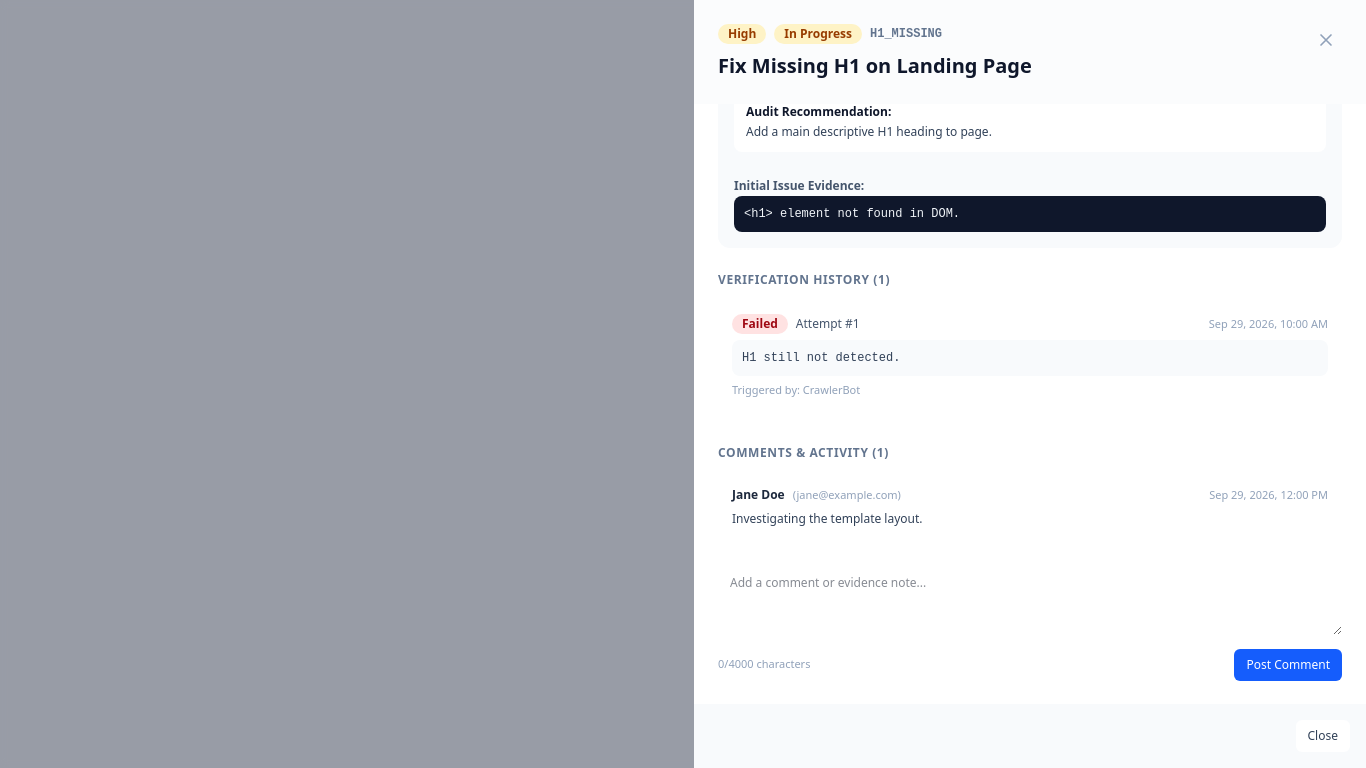
Scenario: TaskDetailDrawer Component › handles comment API error gracefully
The image size is (1366, 768).
(page scrolled)
Type "Should fail" into the text box with placeholder "Add a comment or evidence note..." at (1030, 598), box 718,562 -> 1342,634
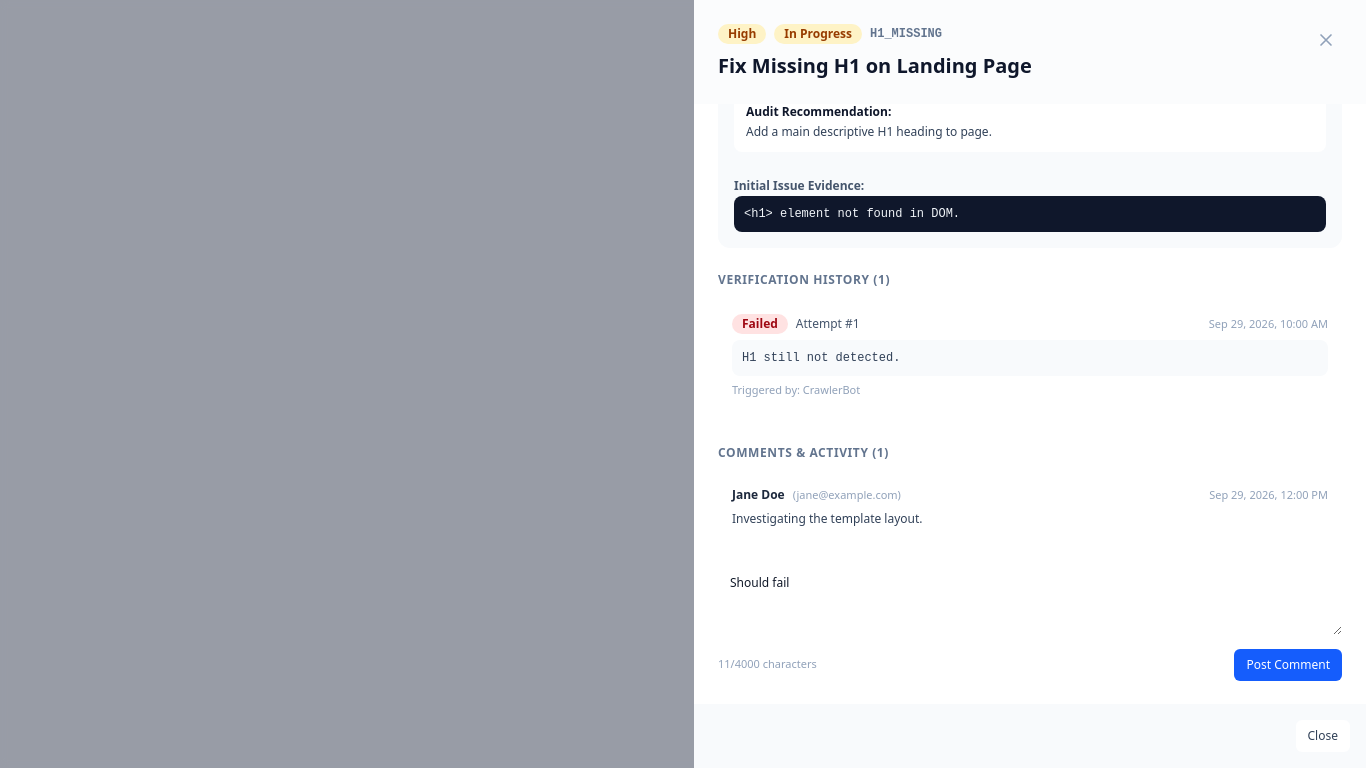
Click the button "Post Comment" at (1288, 664), box 1234,648 -> 1342,680
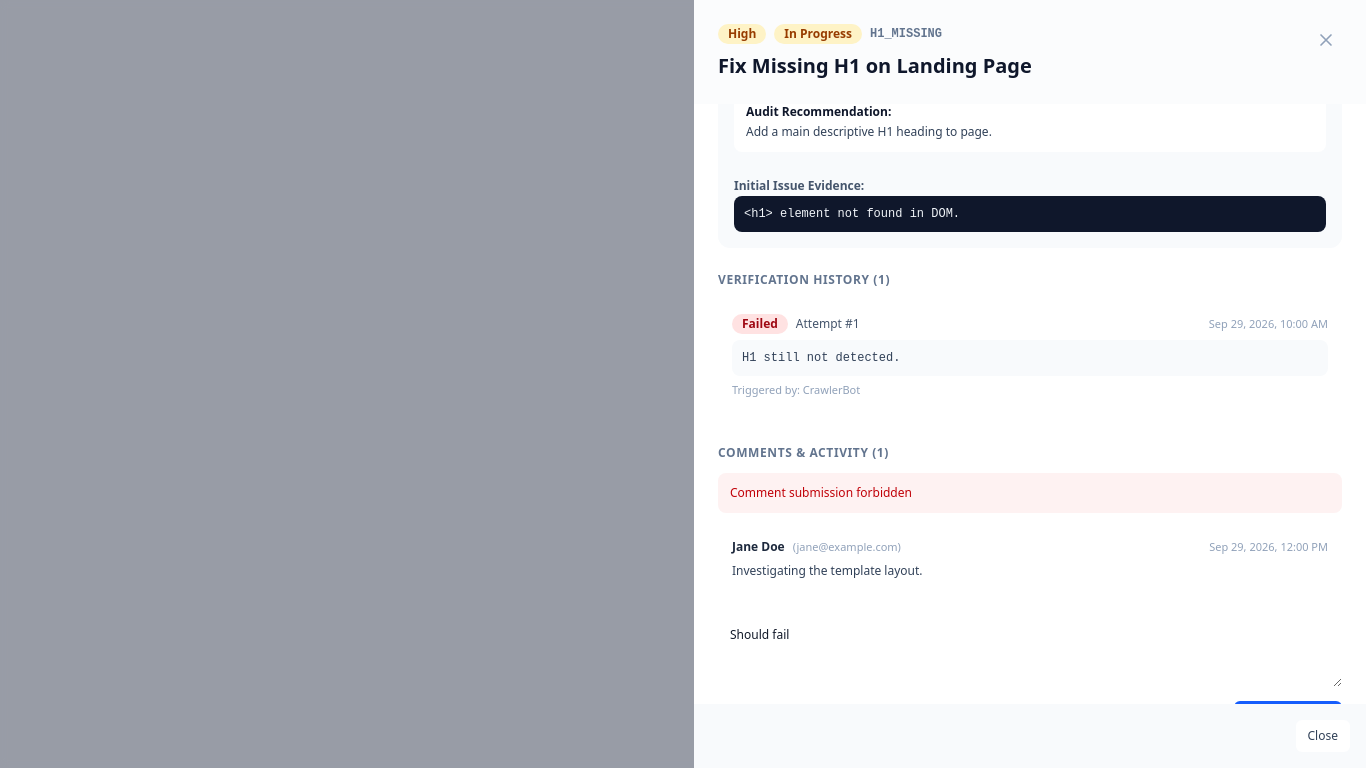
Expected: the text "Comment submission forbidden" is shown, 718,472 -> 1342,512
